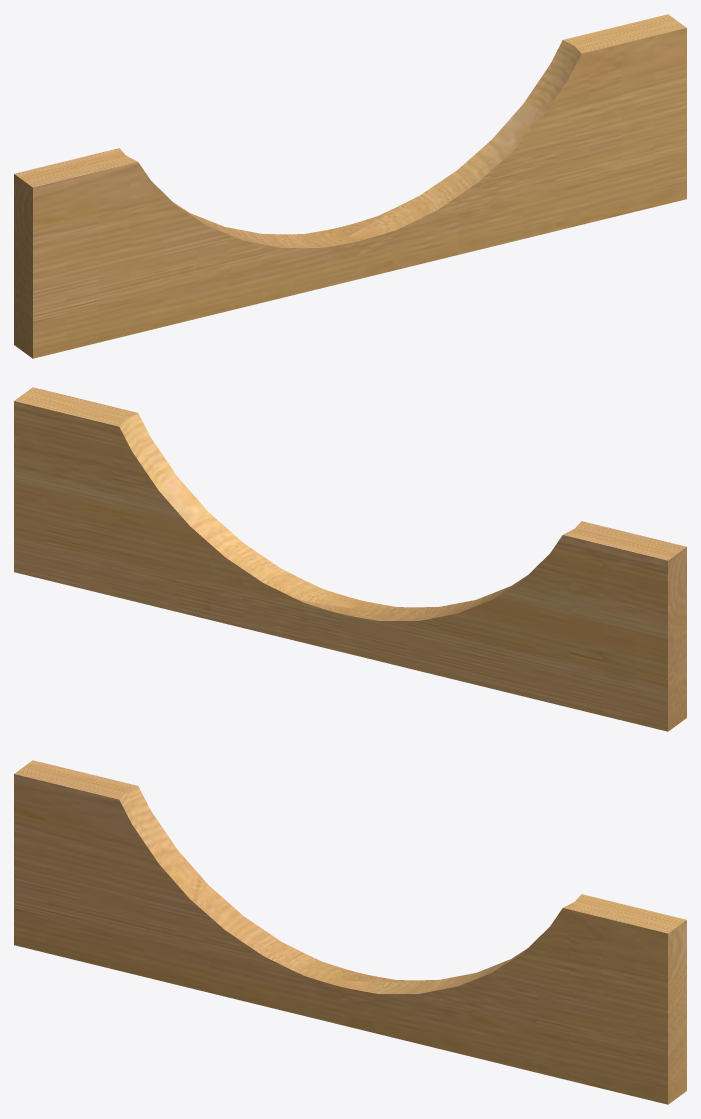
3 renders of one model, top to bottom at view 1: azimuth 30°, elevation 25°; view 2: azimuth 150°, elevation 25°; view 3: azimuth 330°, elevation 25°, orthographic.
Visible parts, largest first — view 1: pCube6; view 2: pCube6; view 3: pCube6.
Part boxes in pixels (left/top/right/bottom): pCube6: left=14, top=14, right=686, bottom=358; pCube6: left=14, top=387, right=686, bottom=731; pCube6: left=14, top=760, right=686, bottom=1104.
Bounding box in the file's own units: 20 × 5 × 1.
1 material, 1 textured.
